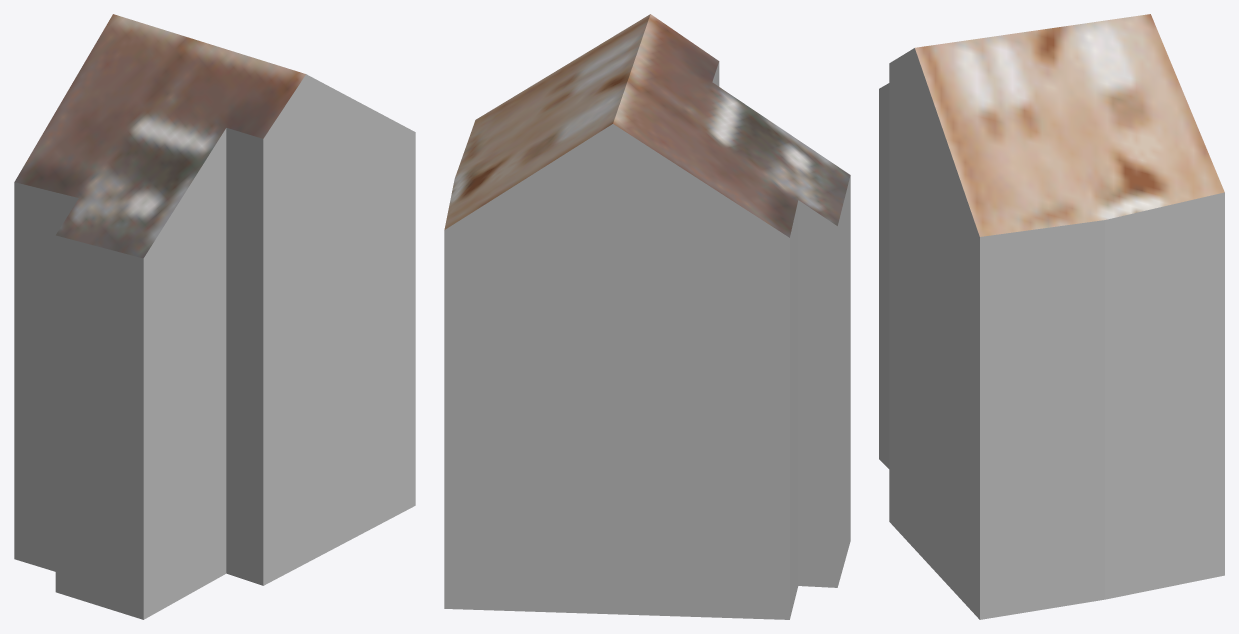
Rendered from DEBW_0010007Tx6q.gltf.
The picture shows the model from 3 angles, left to right: view 1: azimuth 30°, elevation 25°; view 2: azimuth 150°, elevation 25°; view 3: azimuth 270°, elevation 25°; orthographic projection. The views are drawn at different scales.
Parts seen in each view (by area): view 1: Z_UP; view 2: Z_UP; view 3: Z_UP.
Part boxes in pixels (x1,y1,x2,y2): Z_UP: (14,14,415,619); Z_UP: (444,14,850,619); Z_UP: (879,14,1224,619).
Size of the model in its own units: 14.3 by 18.64 by 11.64.
Materials: 2 (1 with a texture image).
